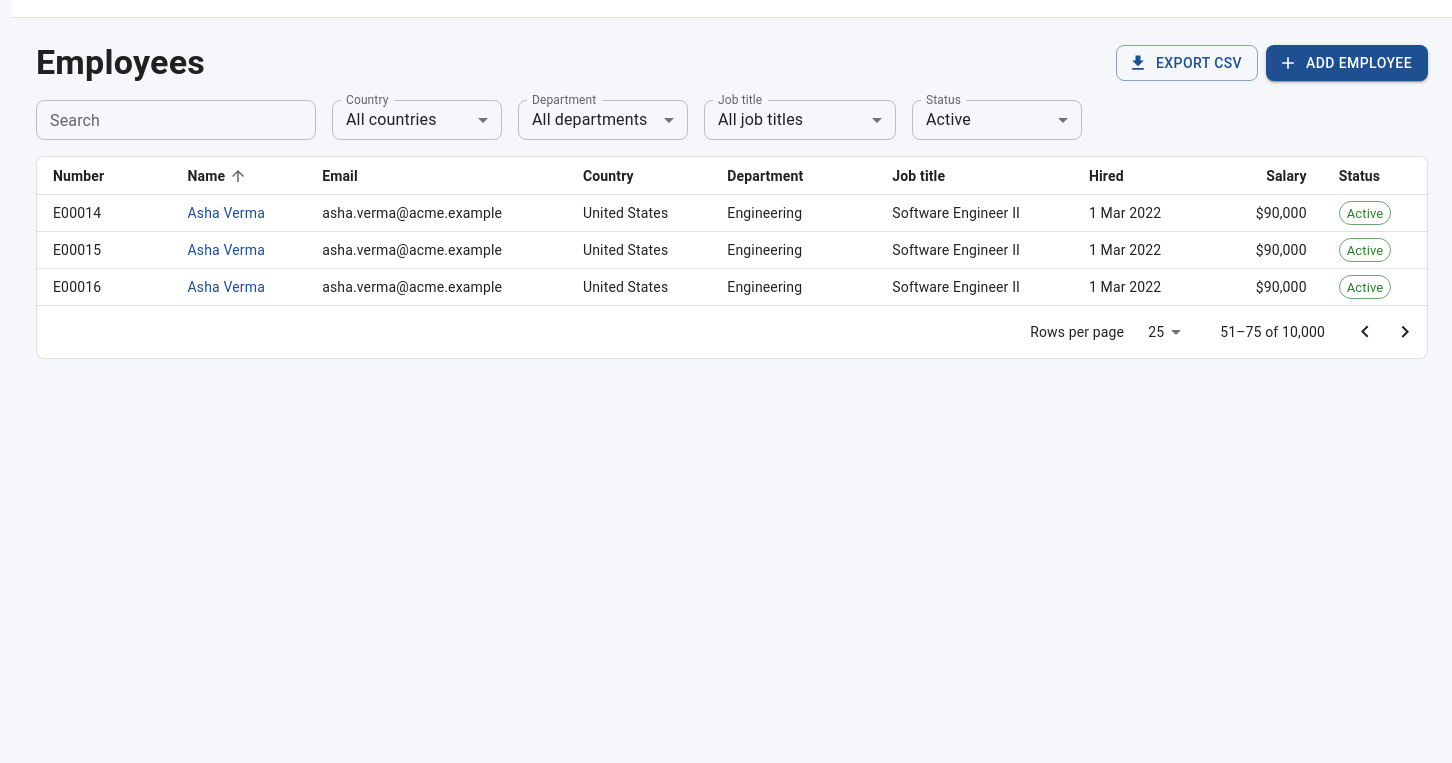
Test: the employee directory › paging › changes the page size and returns to the first page
Select "50" in the dropdown named "Rows per page" at point(1160, 332), box [1132,318,1188,347]
(page scrolled)
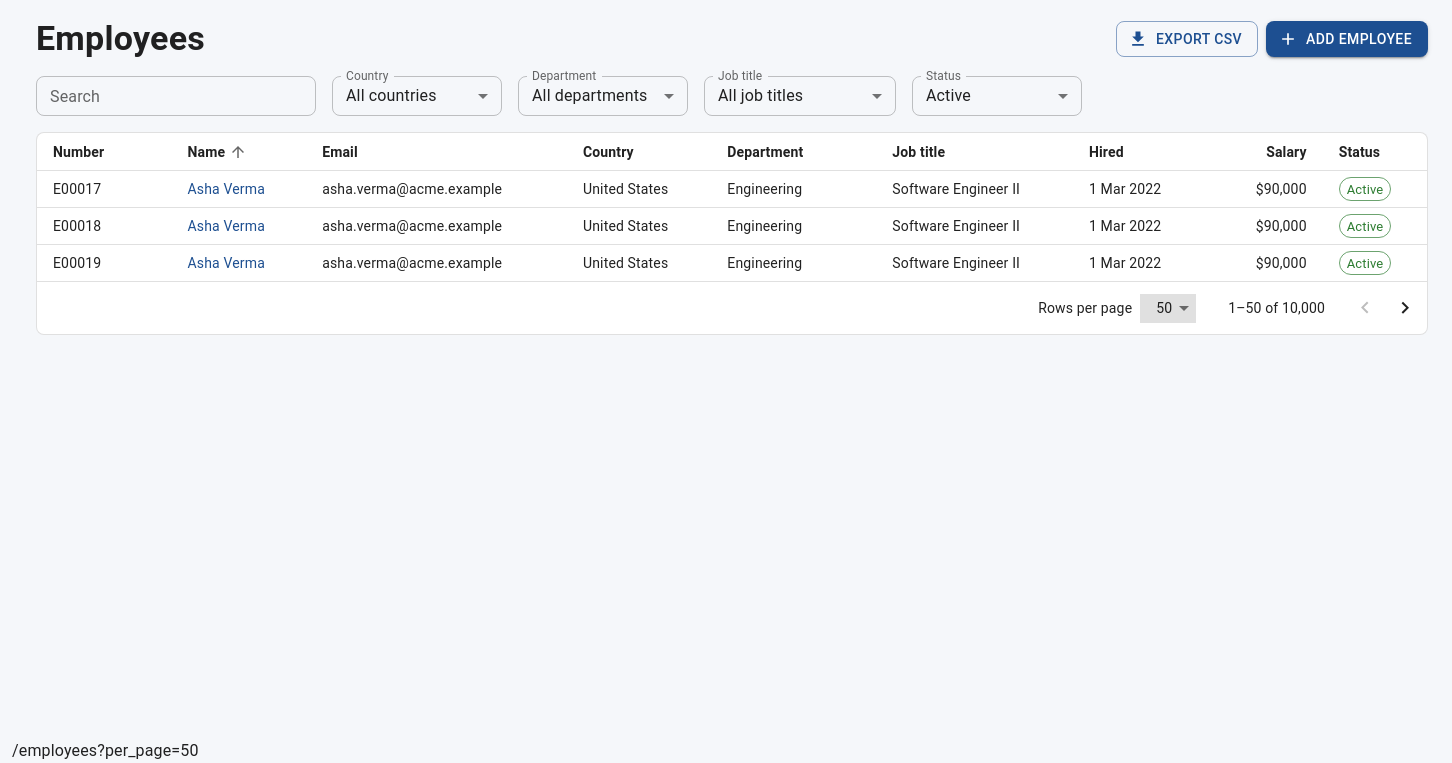
Expected: the text with test id "location" reads "/employees?per_page=50", [12,741,199,760]
